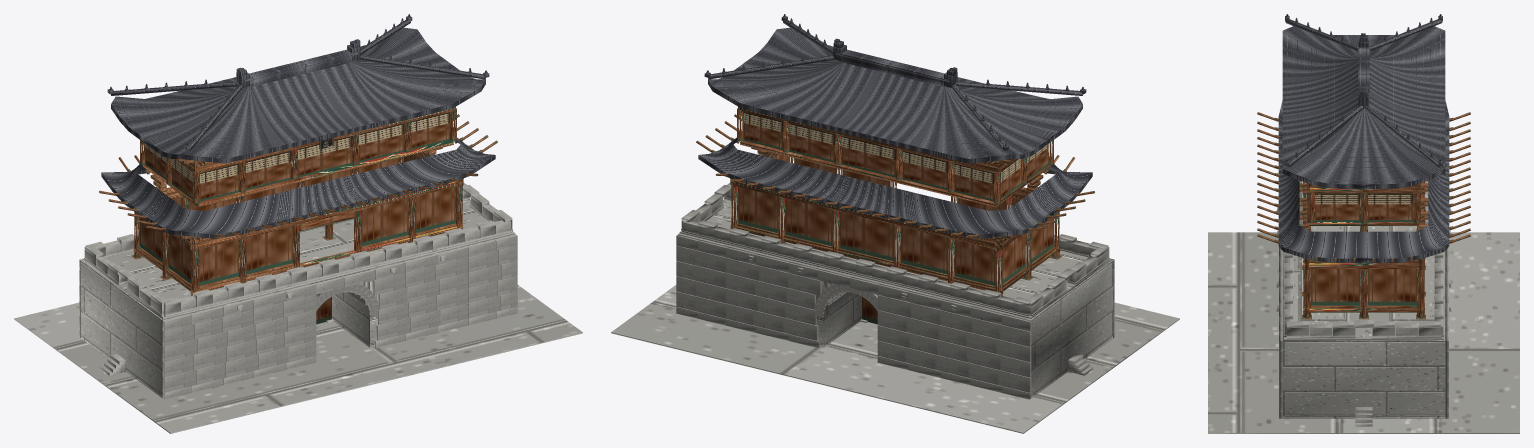
The picture shows the model from 3 angles, left to right: view 1: azimuth 30°, elevation 25°; view 2: azimuth 150°, elevation 25°; view 3: azimuth 270°, elevation 25°; orthographic projection.
Parts seen in each view (by area): view 1: 11140_01_04528_001_01__granite_core, 11140_01_04528_001_03__roof_tier2_hip, 11140_01_04528_001_06__bakseok_plaza_paving, 11140_01_04528_001_02__timber_frame_1f, 11140_01_04528_001_03__roof_tier1_band, 11140_01_04528_001_03__timber_frame_2f, 11140_01_04528_001_03__yongmaru_ridge_beam, 11140_01_04528_001_03__changho_lattice, 11140_01_04528_001_03__rafters_double_eave, 11140_01_04528_001_03__japsang_yongdu_ridge_figures; view 2: 11140_01_04528_001_01__granite_core, 11140_01_04528_001_03__roof_tier2_hip, 11140_01_04528_001_06__bakseok_plaza_paving, 11140_01_04528_001_02__timber_frame_1f, 11140_01_04528_001_03__roof_tier1_band, 11140_01_04528_001_03__timber_frame_2f, 11140_01_04528_001_03__yongmaru_ridge_beam, 11140_01_04528_001_03__changho_lattice, 11140_01_04528_001_03__rafters_double_eave, 11140_01_04528_001_03__japsang_yongdu_ridge_figures; view 3: 11140_01_04528_001_06__bakseok_plaza_paving, 11140_01_04528_001_03__roof_tier2_hip, 11140_01_04528_001_01__granite_core, 11140_01_04528_001_03__roof_tier1_band, 11140_01_04528_001_02__timber_frame_1f, 11140_01_04528_001_03__timber_frame_2f, 11140_01_04528_001_03__rafters_double_eave, 11140_01_04528_001_03__yongmaru_ridge_beam, 11140_01_04528_001_03__changho_lattice, 11140_01_04528_001_02__dapo_gongpo_1f, 11140_01_04528_001_03__japsang_yongdu_ridge_figures, 11140_01_04528_001_06__hyeopmun_stone_steps.
Part boxes in pixels (x1=…): 11140_01_04528_001_01__granite_core: x1=79, y1=183, x2=517, y2=399; 11140_01_04528_001_03__roof_tier2_hip: x1=111, y1=27, x2=485, y2=163; 11140_01_04528_001_06__bakseok_plaza_paving: x1=14, y1=285, x2=582, y2=433; 11140_01_04528_001_02__timber_frame_1f: x1=131, y1=152, x2=463, y2=295; 11140_01_04528_001_03__roof_tier1_band: x1=101, y1=137, x2=495, y2=238; 11140_01_04528_001_03__timber_frame_2f: x1=140, y1=106, x2=456, y2=206; 11140_01_04528_001_03__yongmaru_ridge_beam: x1=111, y1=19, x2=485, y2=151; 11140_01_04528_001_03__changho_lattice: x1=145, y1=112, x2=449, y2=183; 11140_01_04528_001_03__rafters_double_eave: x1=99, y1=114, x2=497, y2=237; 11140_01_04528_001_03__japsang_yongdu_ridge_figures: x1=107, y1=14, x2=489, y2=150; 11140_01_04528_001_01__granite_core: x1=676, y1=183, x2=1114, y2=399; 11140_01_04528_001_03__roof_tier2_hip: x1=708, y1=27, x2=1082, y2=163; 11140_01_04528_001_06__bakseok_plaza_paving: x1=611, y1=285, x2=1179, y2=433; 11140_01_04528_001_02__timber_frame_1f: x1=730, y1=152, x2=1062, y2=295; 11140_01_04528_001_03__roof_tier1_band: x1=698, y1=137, x2=1092, y2=238; 11140_01_04528_001_03__timber_frame_2f: x1=737, y1=106, x2=1053, y2=206; 11140_01_04528_001_03__yongmaru_ridge_beam: x1=708, y1=19, x2=1082, y2=151; 11140_01_04528_001_03__changho_lattice: x1=744, y1=112, x2=1048, y2=183; 11140_01_04528_001_03__rafters_double_eave: x1=696, y1=114, x2=1094, y2=237; 11140_01_04528_001_03__japsang_yongdu_ridge_figures: x1=704, y1=14, x2=1086, y2=150; 11140_01_04528_001_06__bakseok_plaza_paving: x1=1208, y1=232, x2=1519, y2=433; 11140_01_04528_001_03__roof_tier2_hip: x1=1282, y1=26, x2=1445, y2=188; 11140_01_04528_001_01__granite_core: x1=1276, y1=181, x2=1451, y2=418; 11140_01_04528_001_03__roof_tier1_band: x1=1278, y1=100, x2=1449, y2=262; 11140_01_04528_001_02__timber_frame_1f: x1=1302, y1=181, x2=1425, y2=319; 11140_01_04528_001_03__timber_frame_2f: x1=1307, y1=184, x2=1420, y2=225; 11140_01_04528_001_03__rafters_double_eave: x1=1257, y1=112, x2=1470, y2=262; 11140_01_04528_001_03__yongmaru_ridge_beam: x1=1285, y1=19, x2=1442, y2=167; 11140_01_04528_001_03__changho_lattice: x1=1315, y1=193, x2=1412, y2=204; 11140_01_04528_001_02__dapo_gongpo_1f: x1=1294, y1=183, x2=1433, y2=260; 11140_01_04528_001_03__japsang_yongdu_ridge_figures: x1=1285, y1=14, x2=1442, y2=166; 11140_01_04528_001_06__hyeopmun_stone_steps: x1=1355, y1=407, x2=1372, y2=426.
Size of the model in its own units: 35 by 22.05 by 23.
7 materials, 7 textured.
